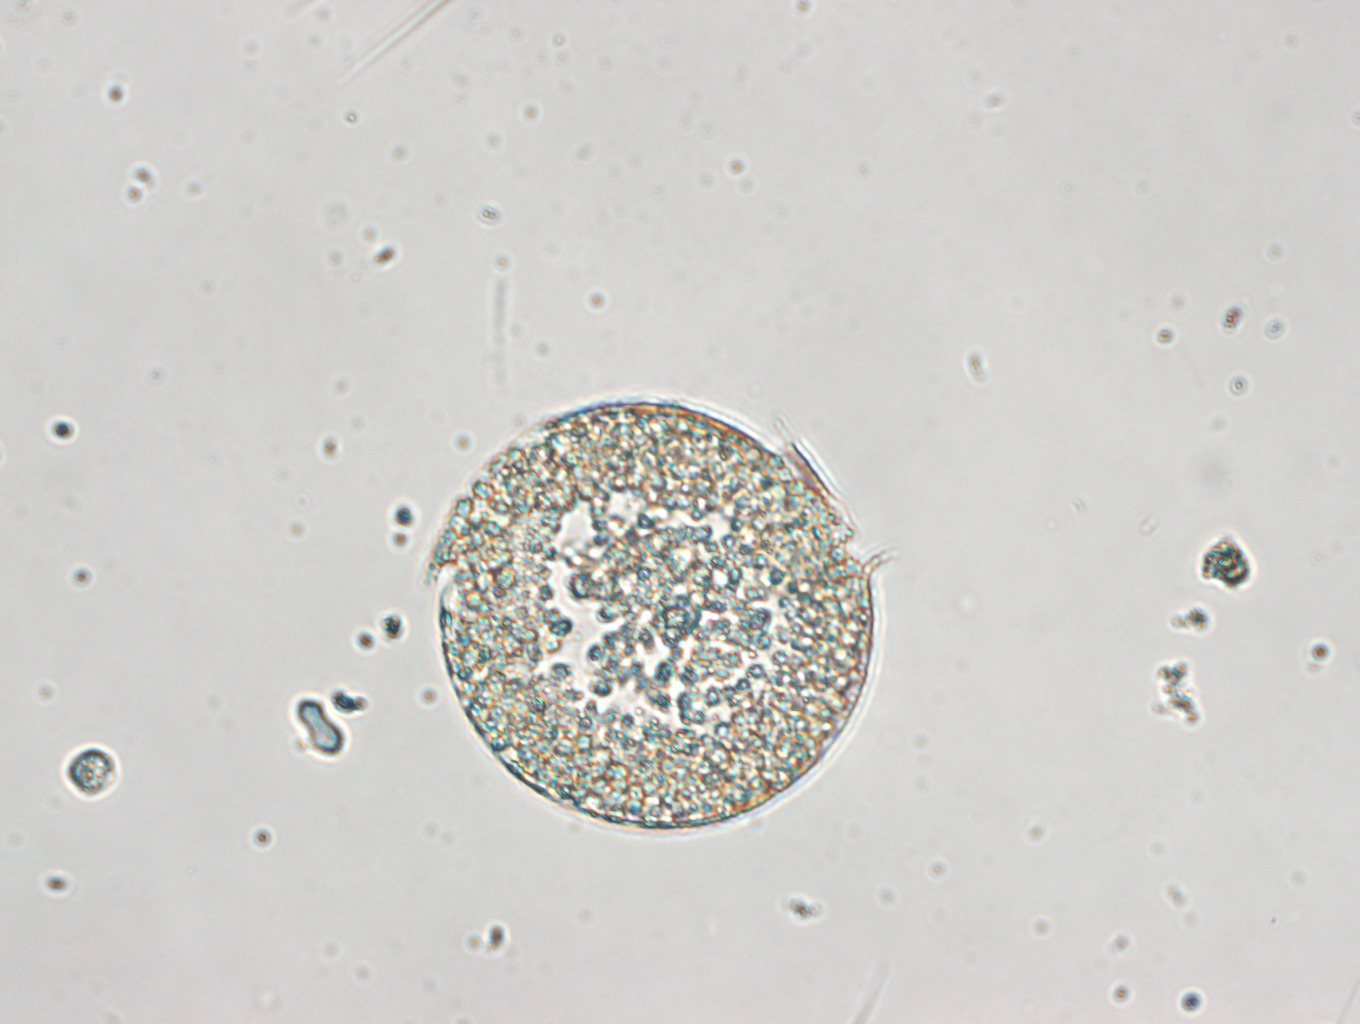coscinodiscus: (427, 400, 894, 831)
